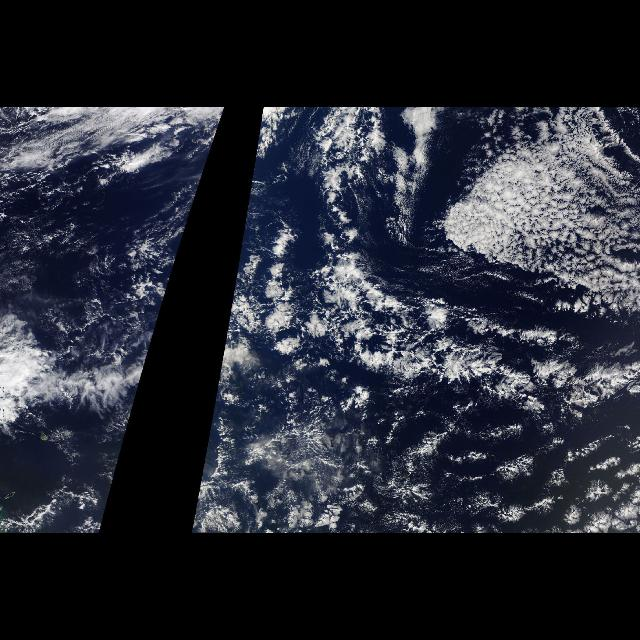Fish: (257, 248, 635, 428)
Flower: (434, 134, 640, 326)
